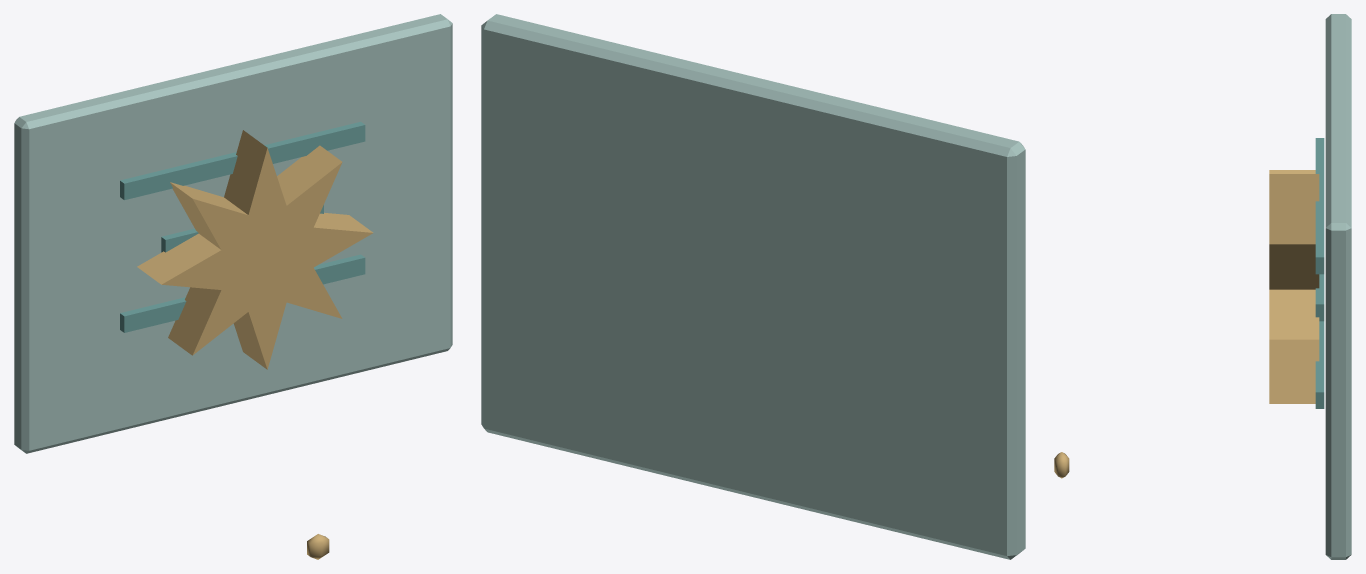
The picture shows the model from 3 angles, left to right: view 1: azimuth 30°, elevation 25°; view 2: azimuth 150°, elevation 25°; view 3: azimuth 270°, elevation 25°; orthographic projection. The views are drawn at different scales.
Visible parts, largest first — view 1: g_s60; view 2: g_s60; view 3: g_s60.
Boxes of the visible parts, left/top/right/bottom form: g_s60: left=14, top=14, right=452, bottom=559; g_s60: left=481, top=14, right=1025, bottom=559; g_s60: left=1054, top=14, right=1351, bottom=559.
Bounding box in the file's own units: 0.2924 × 0.246 × 0.1719.
